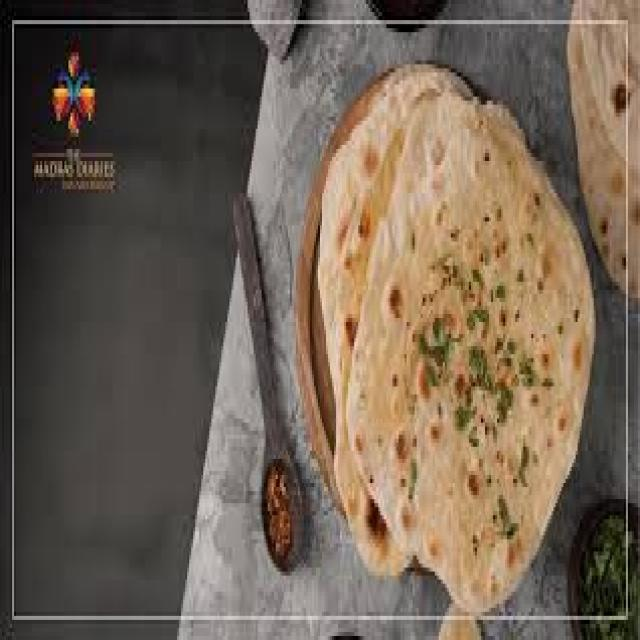ROTI: (350, 68, 594, 608), (316, 64, 463, 572)
